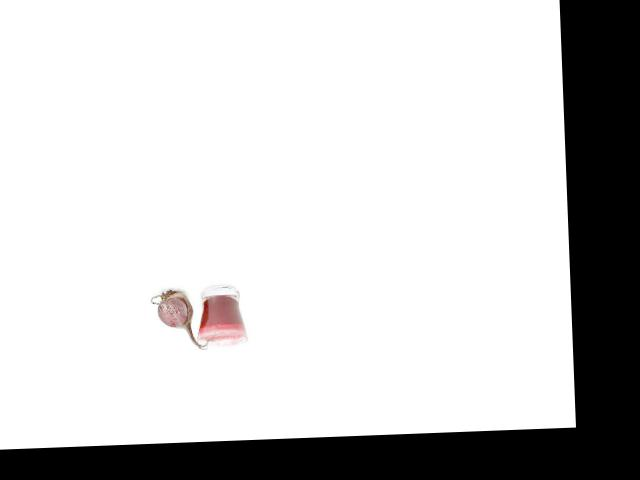beet: (151, 287, 215, 351)
